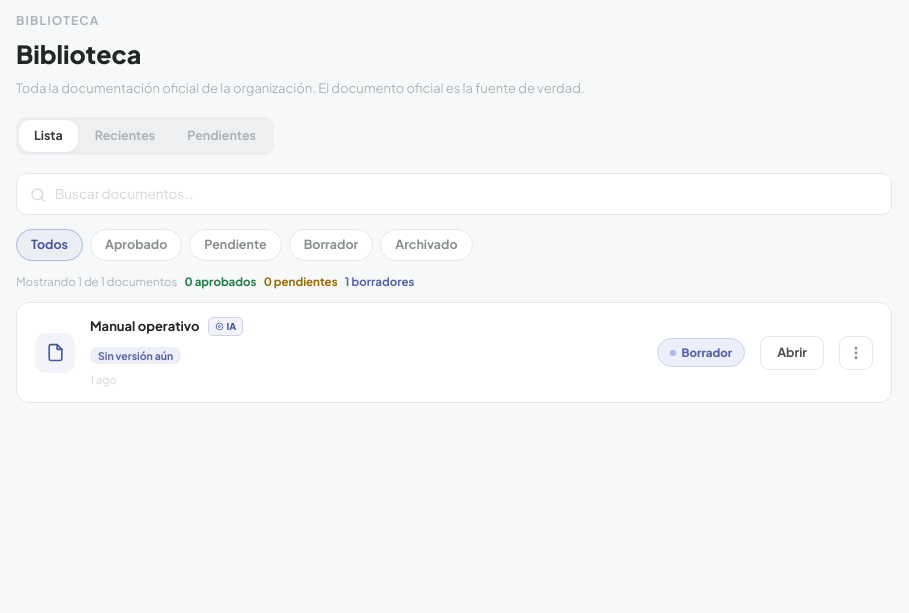
Test: WorkspacePage — menú contextual de la Biblioteca › no ofrece "Archivar" en un documento rechazado aunque se muestre como Borrador
This screenshot has width=909, height=613.
What coordinates should you click on to do the following:
click the button named "Más opciones"
I would click on:
 (856, 353)
Its box is [839,336,873,370].
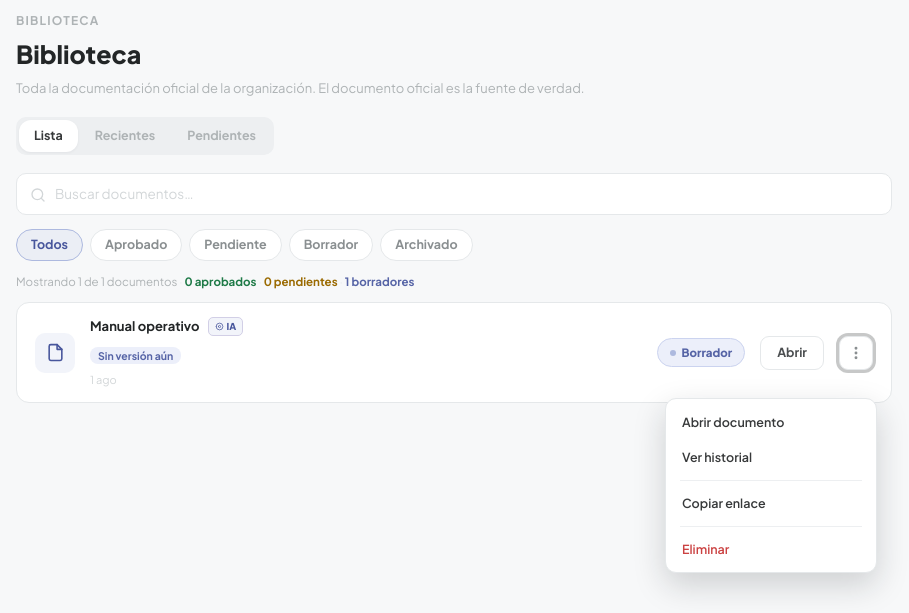
Check: the menu item "Abrir documento" is shown, box [672,405,870,440]
Check: the menu item "Eliminar" is shown, box [672,532,870,566]
